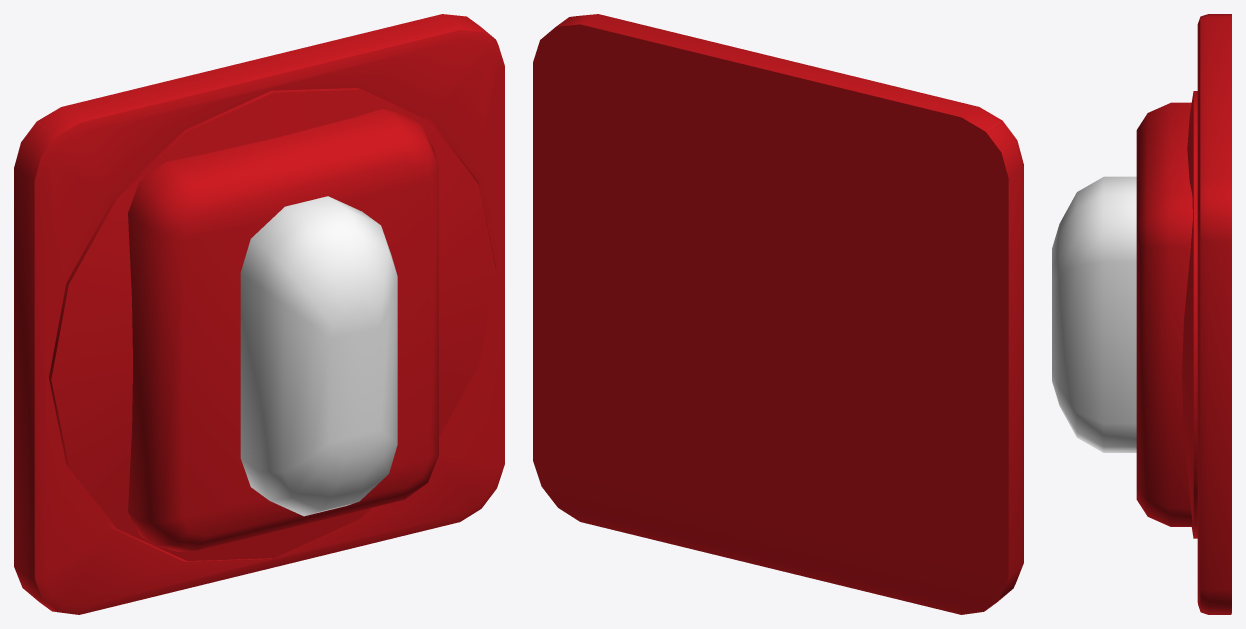
File: LC_3209_FireAlarmLamp_LOD3.FBX
The picture shows the model from 3 angles, left to right: view 1: azimuth 30°, elevation 25°; view 2: azimuth 150°, elevation 25°; view 3: azimuth 270°, elevation 25°; orthographic projection. The views are drawn at different scales.
Parts seen in each view (by area): view 1: LC_3209_FireAlarmLamp_LOD3; view 2: LC_3209_FireAlarmLamp_LOD3; view 3: LC_3209_FireAlarmLamp_LOD3.
Boxes of the visible parts, x1=… form: LC_3209_FireAlarmLamp_LOD3: x1=14, y1=14, x2=504, y2=614; LC_3209_FireAlarmLamp_LOD3: x1=533, y1=14, x2=1023, y2=614; LC_3209_FireAlarmLamp_LOD3: x1=1052, y1=14, x2=1231, y2=614.
Bounding box in the file's own units: 11.21 × 11.21 × 4.21.
Materials: 1 (1 with a texture image).
